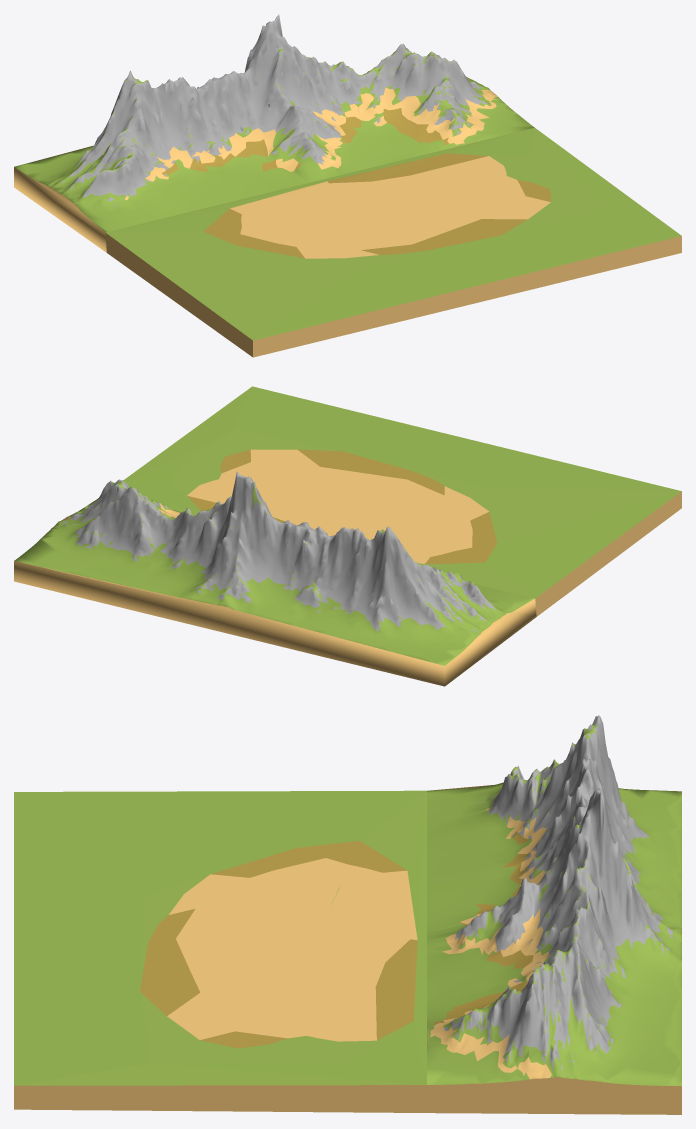
3 renders of one model, top to bottom at view 1: azimuth 30°, elevation 25°; view 2: azimuth 150°, elevation 25°; view 3: azimuth 270°, elevation 25°, orthographic. The views are drawn at different scales.
Parts seen in each view (by area): view 1: Plane; view 2: Plane; view 3: Plane.
Part boxes in pixels (<box>): Plane: <box>14,14,681,357</box>; Plane: <box>14,386,681,686</box>; Plane: <box>14,715,681,1114</box>.
Size of the model in its own units: 10664 by 3230 by 10216.
